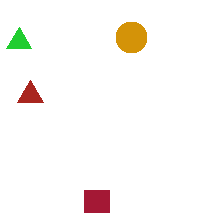circle: (116, 22, 146, 52)
rectangle: (84, 190, 109, 212)
triangle: (17, 80, 43, 102), (6, 27, 31, 48)
